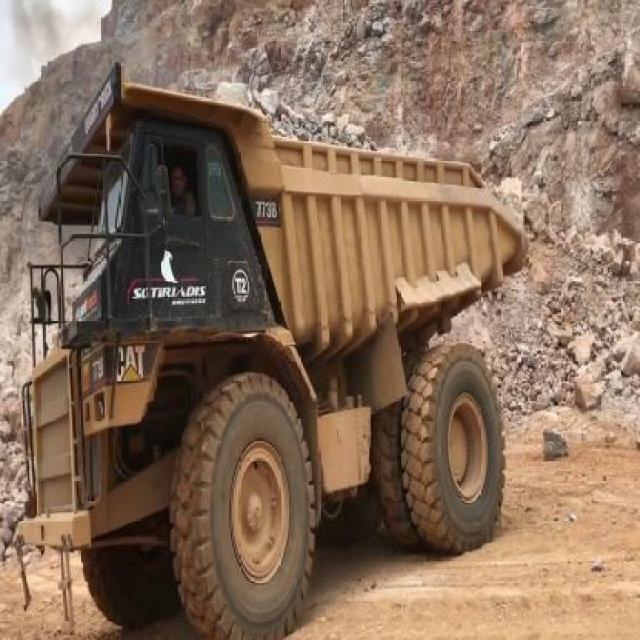dump_truck: (12, 56, 531, 639)
